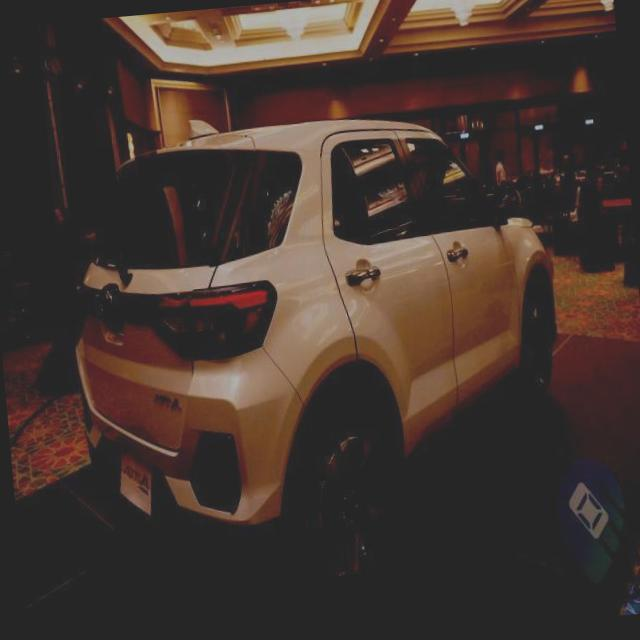PeroduaAtiva: (52, 97, 576, 556)
